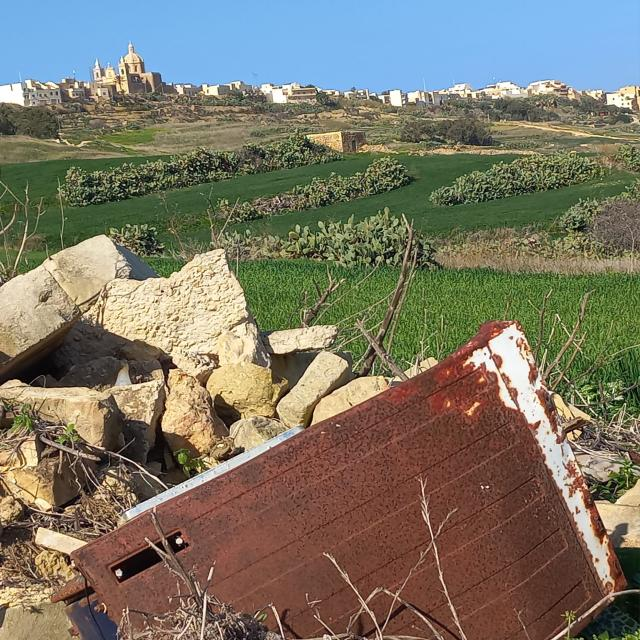Other litter: (43, 319, 633, 640), (572, 605, 640, 640)
